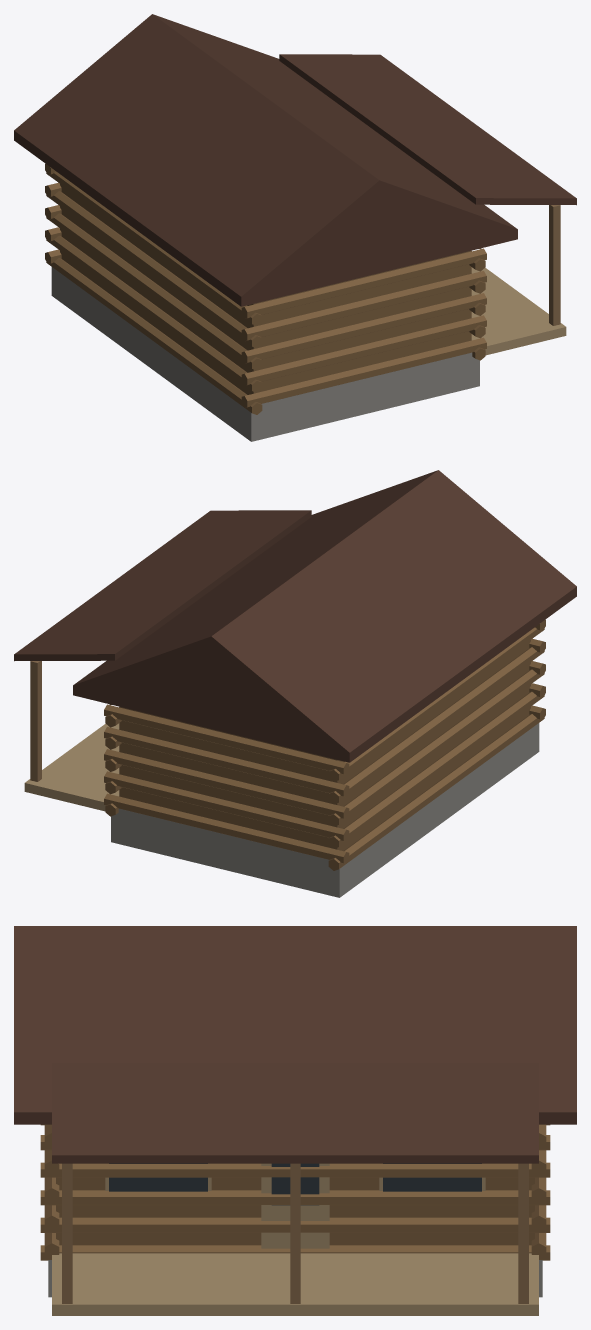
Rendered from SM_Prop_cafe_building_3_LOD1.glb.
The picture shows the model from 3 angles, top to bottom: view 1: azimuth 30°, elevation 25°; view 2: azimuth 150°, elevation 25°; view 3: azimuth 270°, elevation 25°; orthographic projection. The views are drawn at different scales.
Parts seen in each view (by area): view 1: SM_Prop_cafe_building_3_LOD1; view 2: SM_Prop_cafe_building_3_LOD1; view 3: SM_Prop_cafe_building_3_LOD1.
Boxes of the visible parts, x1,y1,x2,y2 form: SM_Prop_cafe_building_3_LOD1: (14, 14, 576, 441); SM_Prop_cafe_building_3_LOD1: (14, 470, 576, 897); SM_Prop_cafe_building_3_LOD1: (14, 926, 576, 1315).
Bounding box in the file's own units: 6.6 × 4.38 × 7.4.
